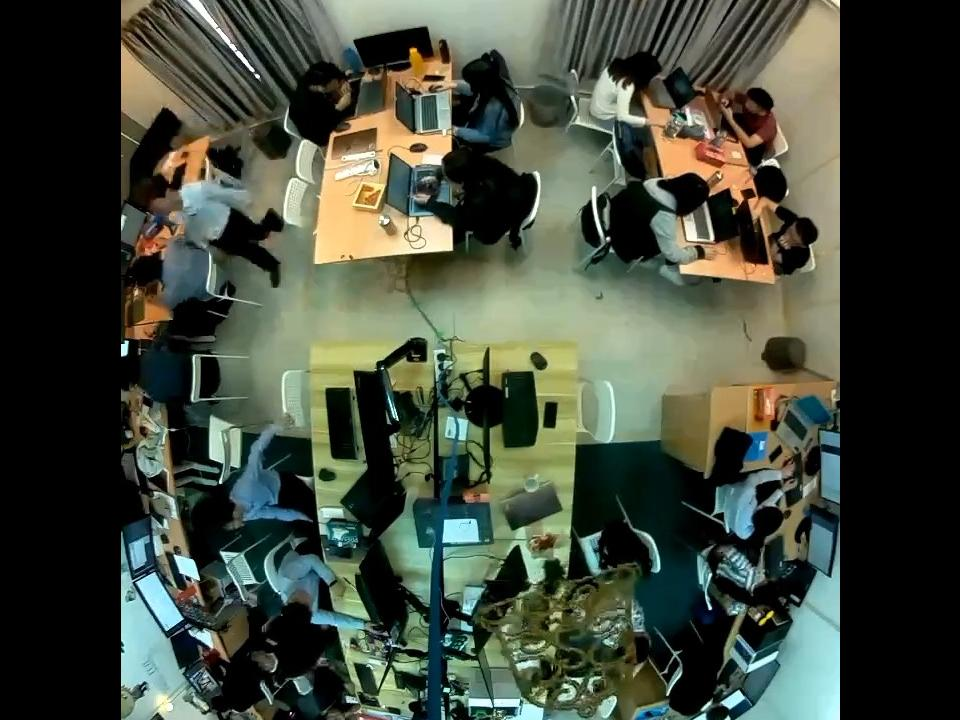name-tag: (186, 210, 198, 218)
